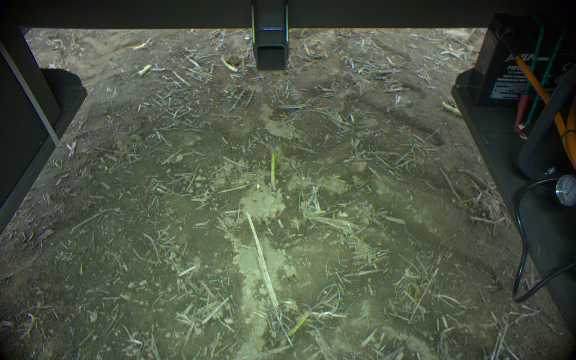aspa: (278, 310, 309, 344), (268, 139, 279, 191), (218, 53, 239, 72), (238, 53, 245, 71)
